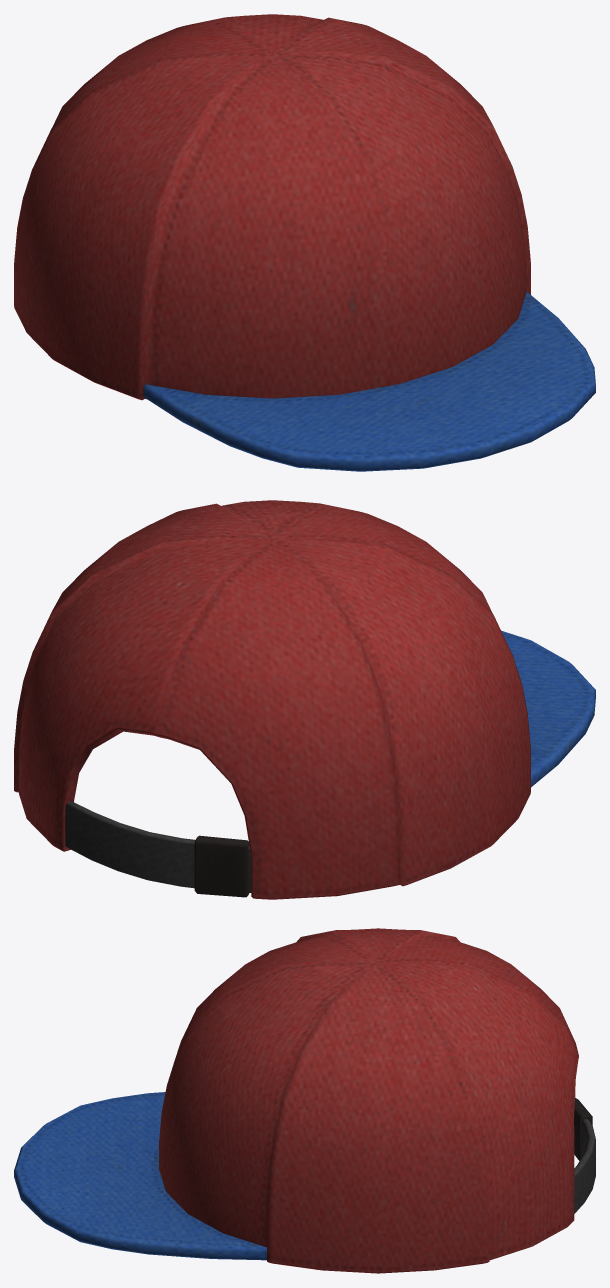
The model's file is ChristmasRoom_Cap.fbx.
The picture shows the model from 3 angles, top to bottom: view 1: azimuth 30°, elevation 25°; view 2: azimuth 150°, elevation 25°; view 3: azimuth 270°, elevation 25°; orthographic projection. The views are drawn at different scales.
Visible parts, largest first — view 1: ChristmasRoom_Cap; view 2: ChristmasRoom_Cap; view 3: ChristmasRoom_Cap.
Part boxes in pixels (box(x1,y1,x2,y2)): ChristmasRoom_Cap: box(14, 14, 595, 471); ChristmasRoom_Cap: box(14, 500, 595, 899); ChristmasRoom_Cap: box(14, 928, 595, 1273).
Bounding box in the file's own units: 21.55 × 11.87 × 28.53.
